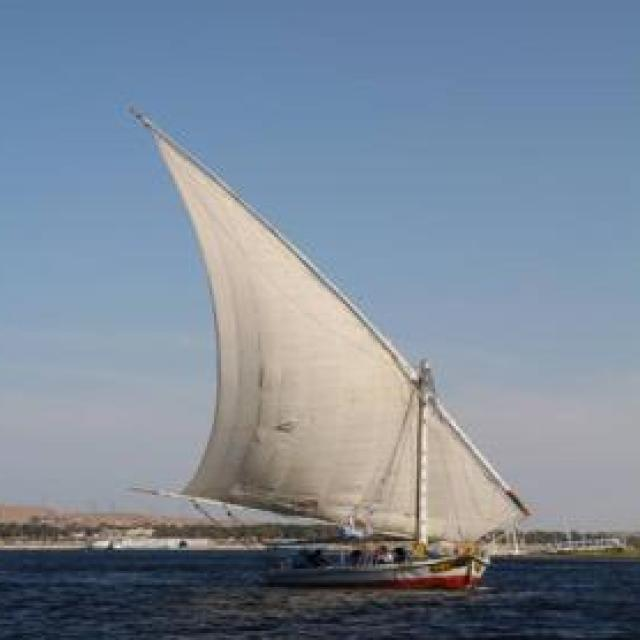sailboat: (137, 107, 518, 585)
